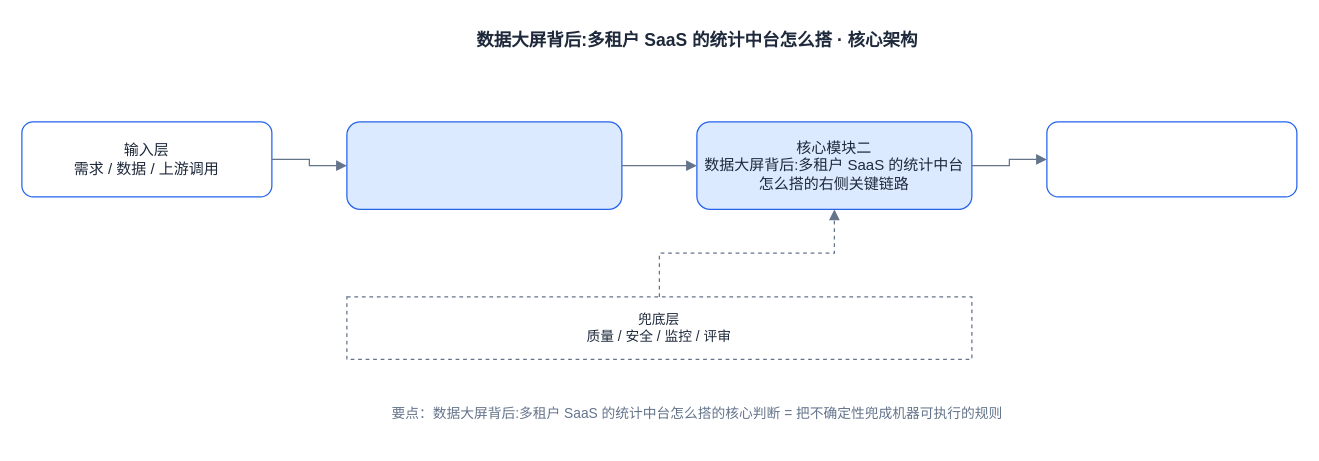
Image size: 1319x461. Some labels were removed from this diagram. Each missing label, with the box of its shape:
核心模块一 数据大屏背后:多租户 SaaS 的统计中台怎么搭的左侧关键链路: (346, 121, 622, 209)
输出 / 结果 产物 / 上线 / 反馈: (1046, 121, 1297, 197)
